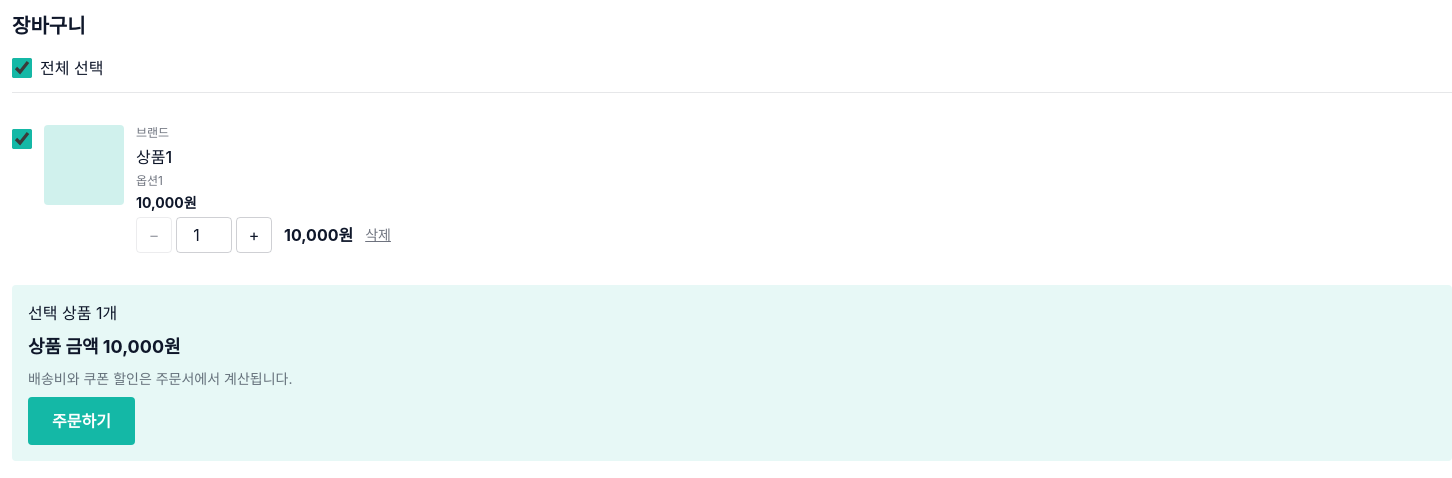
Test: 수량을 입력할 때는 확정할 때 한 번만 PATCH한다
Replace the text in the number field named "수량" with "12": (204, 235) [176,217,232,253]
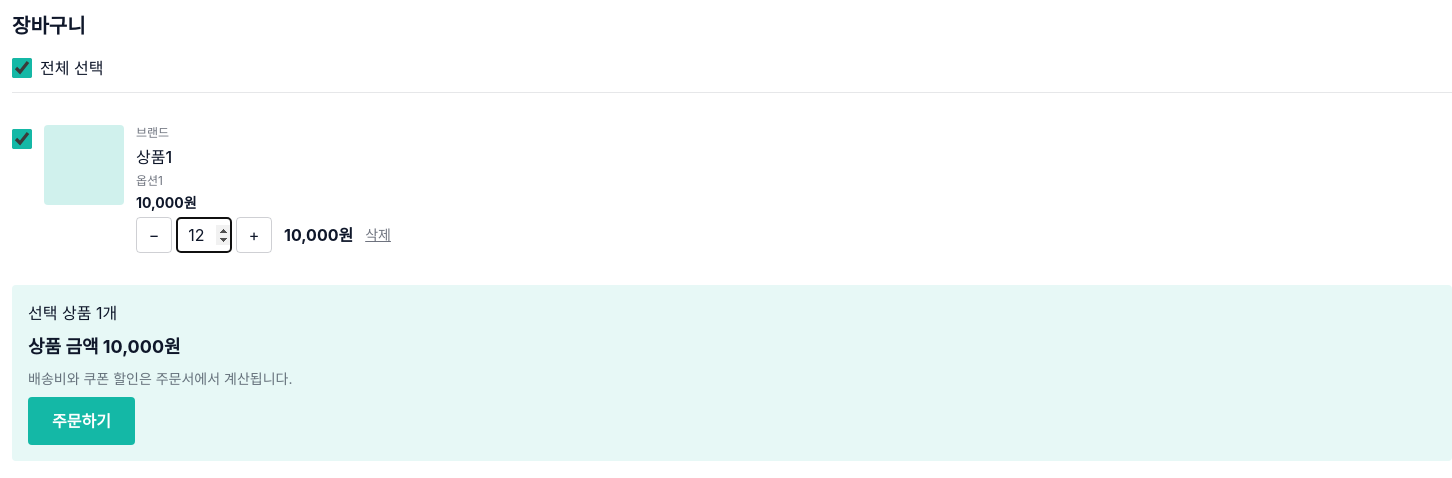
Press Tab
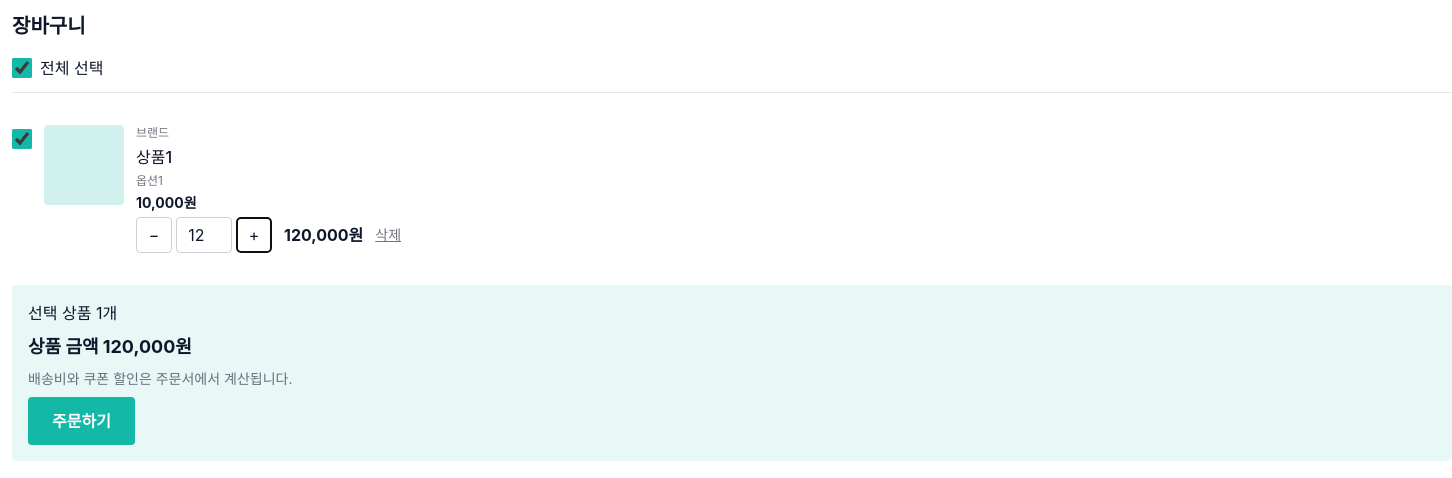
Expected: the text "상품 금액 120,000원" is shown, [28,336,192,357]
